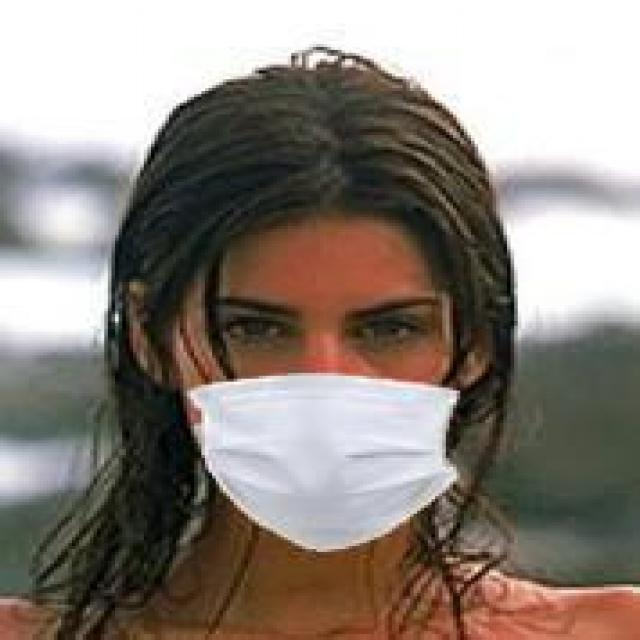mask: (122, 44, 540, 581)
